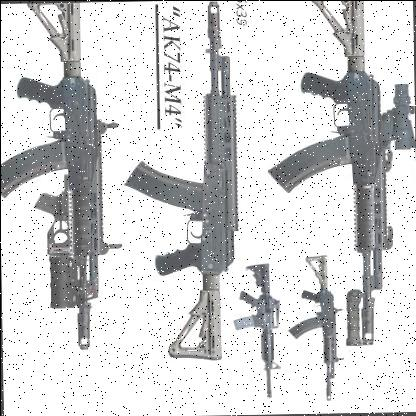rifle: (108, 0, 249, 368), (276, 0, 416, 352), (0, 2, 109, 354), (278, 250, 349, 402), (220, 258, 288, 401)
